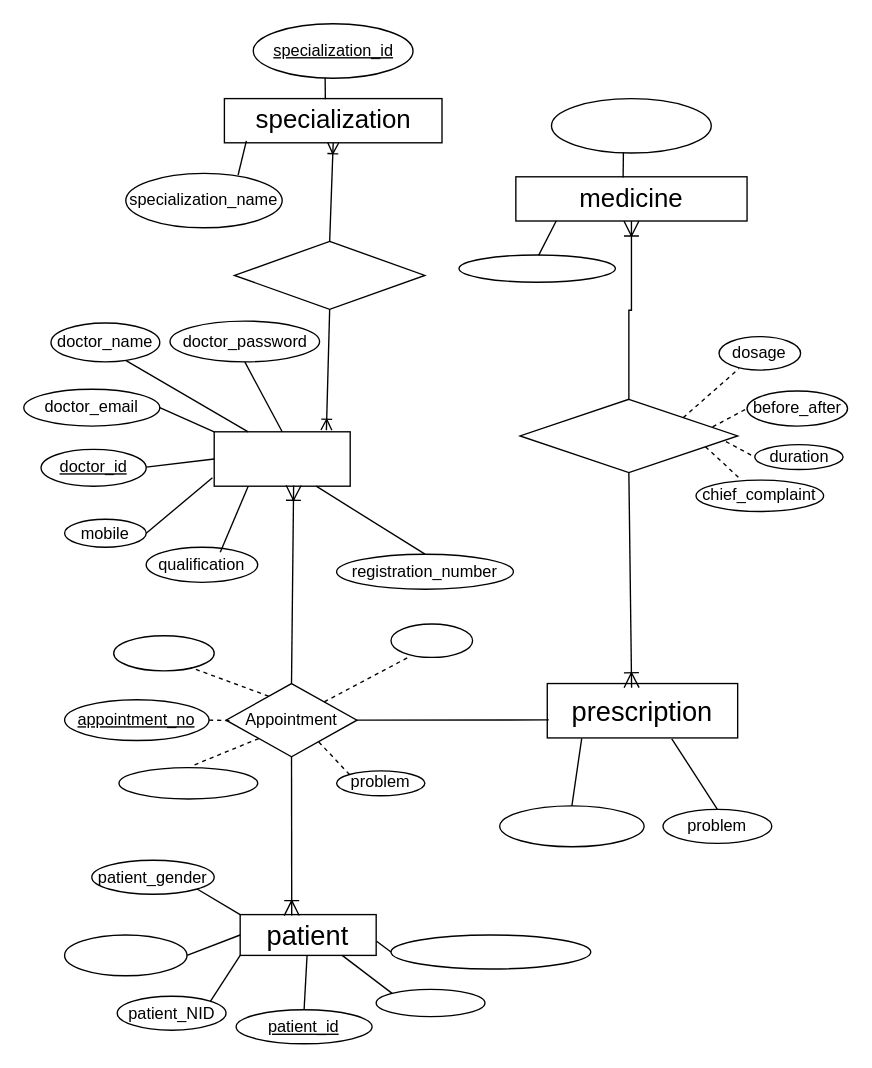
Some shapes in this 872 by 1068 pixel diagram are drawn without their labels. Here are the shapes that lost their labels. From the top down, the centre of each, then its label:
At [630,125]: "medicine_id".
At [329,274]: "doctor_specialization".
At [536,268]: "medicine_name".
At [628,435]: "prescribed_medicine".
At [281,458]: "doctor".
At [163,652]: "status".
At [431,640]: "phone".
At [188,782]: "appointment_date".
At [571,826]: "prescription_id".
At [125,955]: "patient_name".
At [490,951]: "patient_birth_regi_no".
At [430,1002]: "patient_dob".
